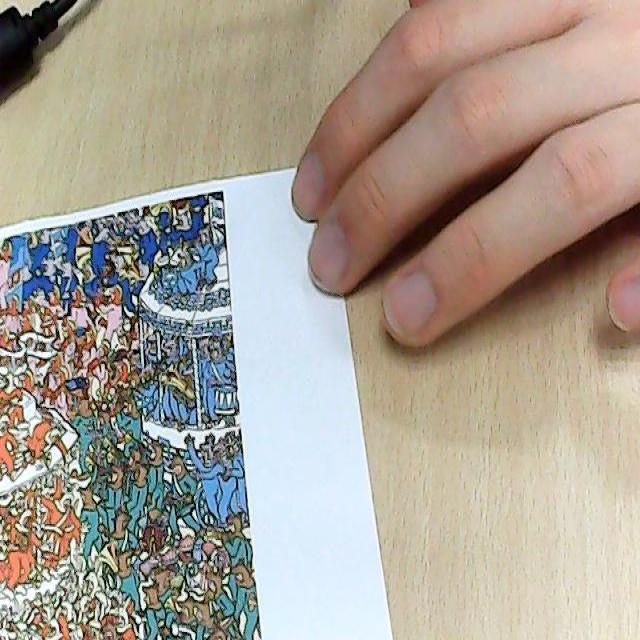waldo: (127, 345, 142, 374)
